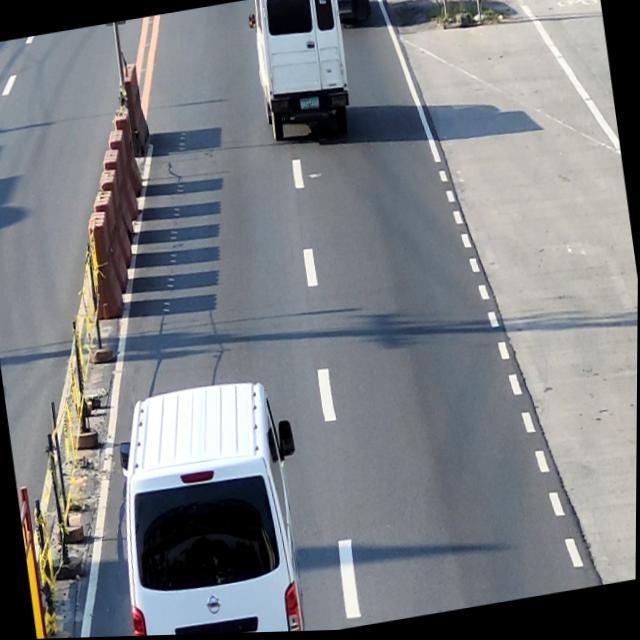Car: (101, 372, 323, 638), (245, 0, 355, 145)
License-Plate: (299, 99, 320, 114)
